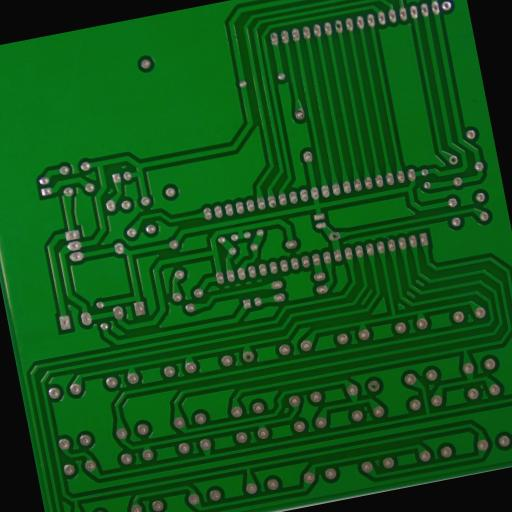missing_hole: (335, 22, 342, 30), (450, 156, 457, 164), (370, 383, 378, 390), (331, 233, 338, 240), (245, 354, 252, 361)
